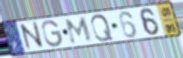6: (139, 6, 161, 37), (118, 10, 138, 40)
G: (40, 19, 64, 48)
M: (65, 16, 94, 46)
N: (17, 20, 46, 52)
Q: (90, 13, 115, 43)
